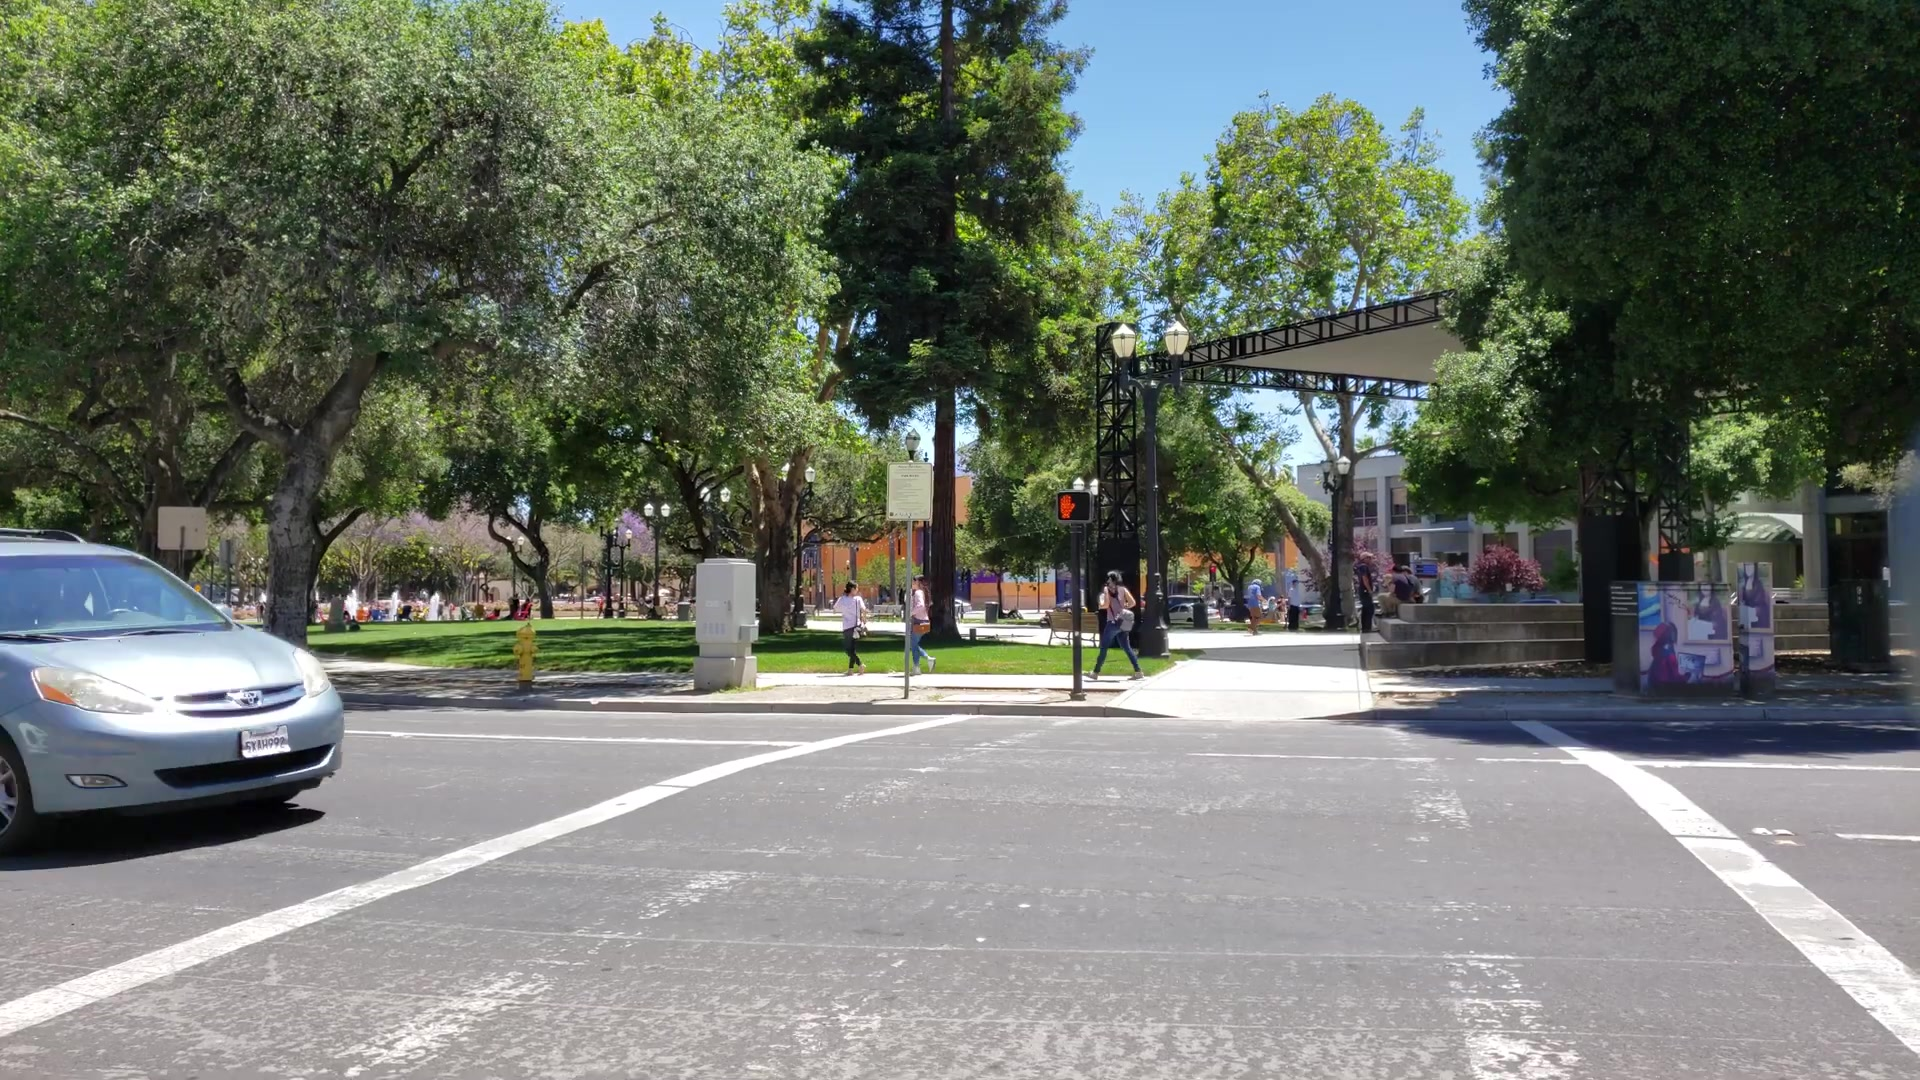vehicle: (3, 525, 343, 836)
